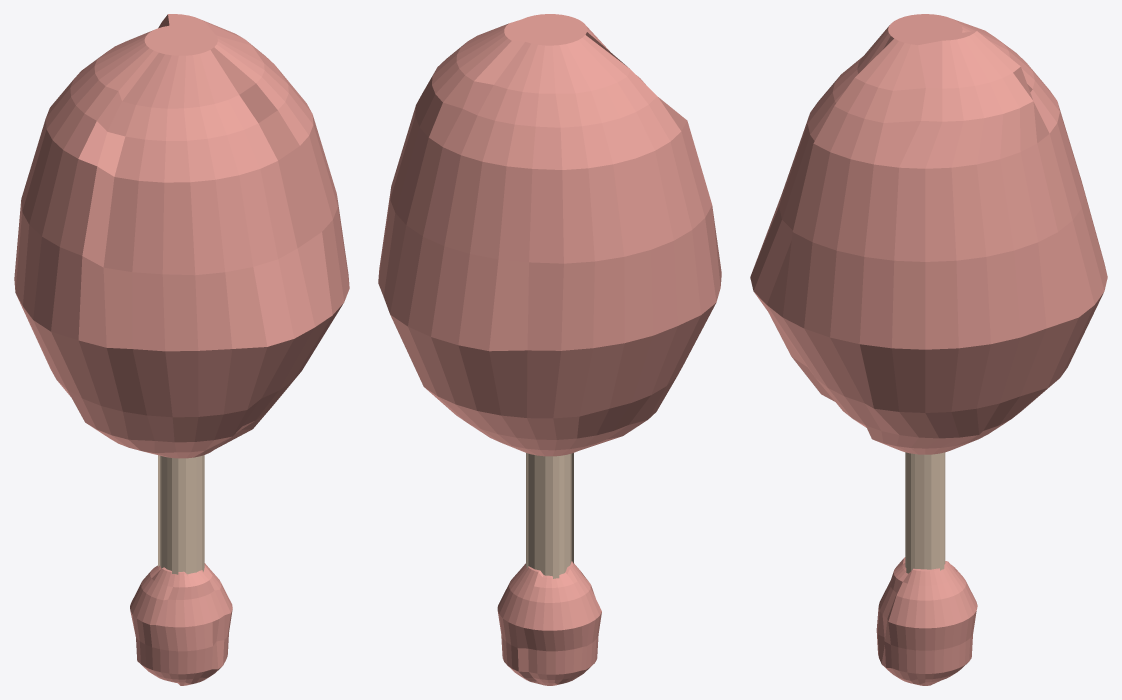
Rendered from raw chicken.fbx.
The picture shows the model from 3 angles, left to right: view 1: azimuth 30°, elevation 25°; view 2: azimuth 150°, elevation 25°; view 3: azimuth 270°, elevation 25°; orthographic projection. The views are drawn at different scales.
Visible parts, largest first — view 1: Cylinder, Cylinder.001, Cube; view 2: Cylinder, Cylinder.001, Cube; view 3: Cylinder, Cylinder.001, Cube.
Part boxes in pixels (bbox=[...]): Cylinder: bbox=[14, 14, 349, 458]; Cylinder.001: bbox=[130, 563, 232, 685]; Cube: bbox=[158, 455, 204, 574]; Cylinder: bbox=[378, 14, 721, 456]; Cylinder.001: bbox=[497, 561, 601, 685]; Cube: bbox=[526, 453, 573, 578]; Cylinder: bbox=[750, 14, 1107, 454]; Cylinder.001: bbox=[876, 557, 977, 685]; Cube: bbox=[905, 452, 945, 573].
Bounding box in the file's own units: 204 × 428 × 212.
